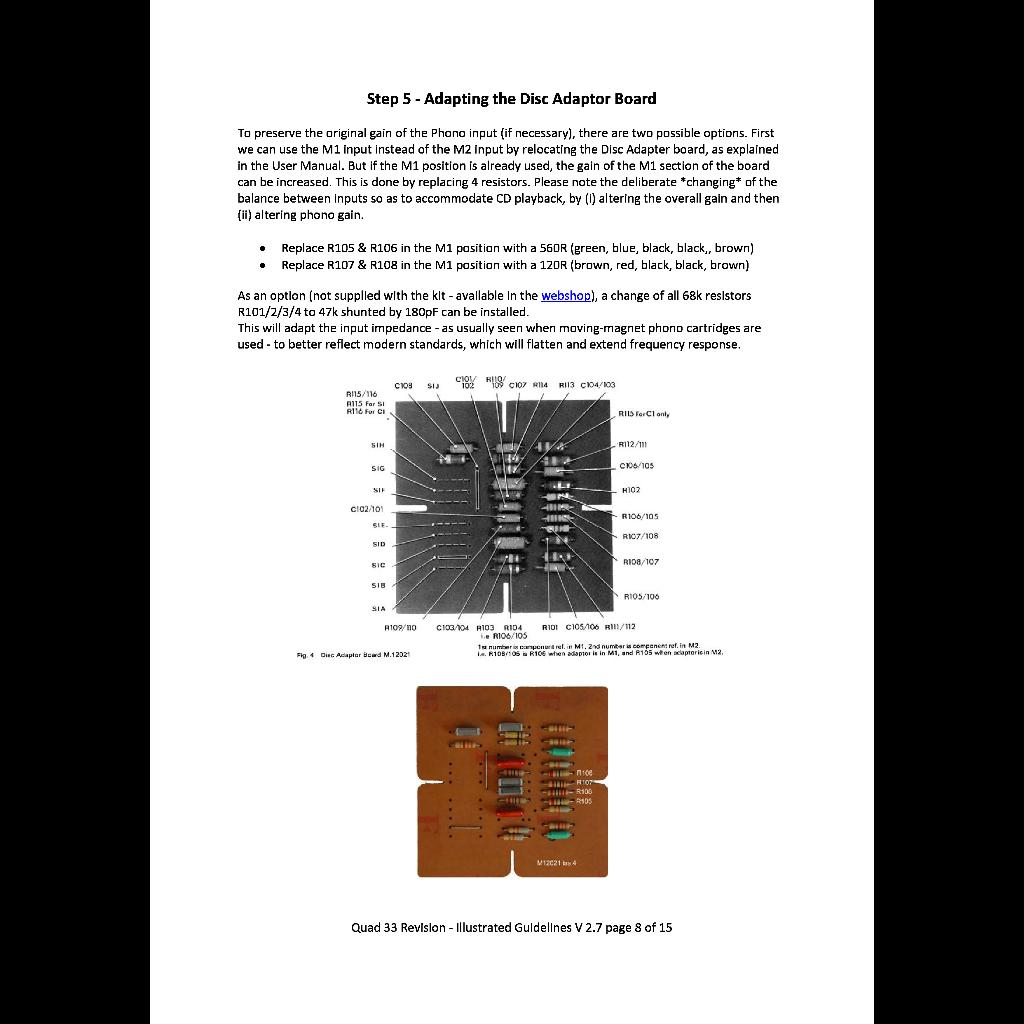Board: (335, 370, 675, 636), (410, 680, 616, 882)
